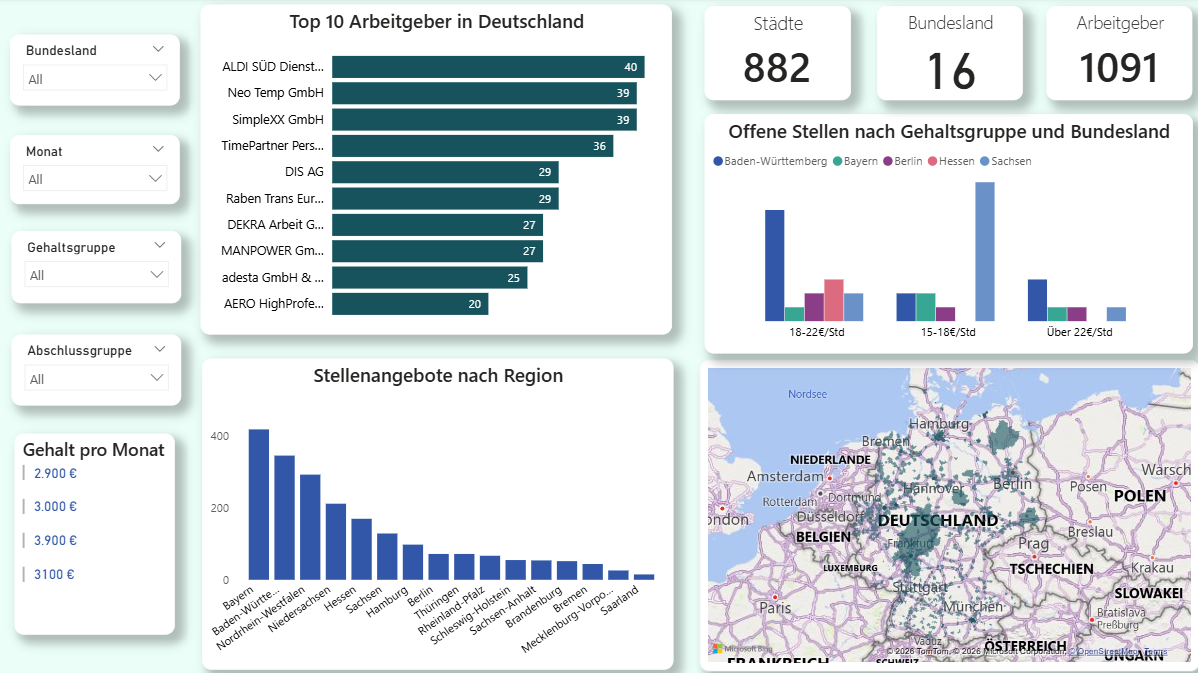

What the dashboard file says about the page in this screenshot:
{"tool":"powerbi","page":{"name":"локация вакансий","canvas":[1280,720],"ordinal":0},"visuals":[{"type":"clusteredBarChart","title":"Top 10 Arbeitgeber in Deutschland","fields":{"Category":["logistiker_jobs_clean.Arbeitgeber"],"Y":["CountNonNull(logistiker_jobs_clean.ID)"]},"box":[218,8,500,350],"z":0},{"type":"filledMap","fields":{"Category":["logistiker_jobs_clean.Ort"],"Y":["CountNonNull(logistiker_jobs_clean.ID)"]},"box":[747.5,384.7,530,330],"z":1000},{"type":"card","title":"Arbeitgeber","fields":{"Values":["Count(logistiker_jobs_clean.Arbeitgeber)"]},"box":[1115,9.4,155,100.2],"z":2000},{"type":"card","title":"Städte","fields":{"Values":["Count(logistiker_jobs_clean.Ort)"]},"box":[752.1,9.4,155,100],"z":3000},{"type":"clusteredColumnChart","title":"Stellenangebote nach Region","fields":{"Category":["logistiker_jobs_clean.Bundesland"],"Y":["CountNonNull(logistiker_jobs_clean.ID)"]},"box":[220,384,500,330],"z":4000},{"type":"slicer","fields":{"Values":["logistiker_jobs_clean.Bundesland"]},"box":[15.9,39.8,180,75],"z":5000},{"type":"slicer","fields":{"Values":["logistiker_jobs_clean.Gehaltsgruppe"]},"box":[17.8,248.9,180,76.7],"z":6000},{"type":"slicer","fields":{"Values":["logistiker_jobs_clean.Abschluss_Gruppe"]},"box":[17.8,357.8,180,75.6],"z":7000},{"type":"lineClusteredColumnComboChart","title":"Offene Stellen nach Gehaltsgruppe und Bundesland","fields":{"Category":["logistiker_jobs_clean.Gehaltsgruppe"],"Series":["logistiker_jobs_clean.Bundesland"],"Y":["CountNonNull(logistiker_jobs_clean.ID)"]},"box":[752,124,518,254],"z":8000},{"type":"slicer","fields":{"Values":["Calendar.Jahr","Calendar.Monat_Name"]},"box":[15.6,145.6,180,73.3],"z":9000},{"type":"card","title":"Bundesland","fields":{"Values":["Count(logistiker_all_keywords.Bundesland)"]},"box":[935.4,9.4,155,100.2],"z":10000},{"type":"multiRowCard","title":"Gehalt pro Monat","fields":{"Values":["logistiker_jobs_clean.Gehalt"]},"box":[20.8,463,170.1,213.5],"z":11000}]}

Visuals, with their boxes in screenshot pixels (x1, y1, x2, y2), scaled from the page's 1280x720 canvas onto the 1198x673 screenshot:
"Top 10 Arbeitgeber in Deutschland" clusteredBarChart: left=204, top=7, right=672, bottom=335
filledMap - logistiker_jobs_clean.Ort x CountNonNull(logistiker_jobs_clean.ID): left=700, top=360, right=1196, bottom=668
"Arbeitgeber" card: left=1044, top=9, right=1189, bottom=102
"Städte" card: left=704, top=9, right=849, bottom=102
"Stellenangebote nach Region" clusteredColumnChart: left=206, top=359, right=674, bottom=667
slicer - logistiker_jobs_clean.Bundesland: left=15, top=37, right=183, bottom=107
slicer - logistiker_jobs_clean.Gehaltsgruppe: left=17, top=233, right=185, bottom=304
slicer - logistiker_jobs_clean.Abschluss_Gruppe: left=17, top=334, right=185, bottom=405
"Offene Stellen nach Gehaltsgruppe und Bundesland" lineClusteredColumnComboChart: left=704, top=116, right=1189, bottom=353
slicer - Calendar.Jahr x Calendar.Monat_Name: left=15, top=136, right=183, bottom=205
"Bundesland" card: left=875, top=9, right=1021, bottom=102
"Gehalt pro Monat" multiRowCard: left=19, top=433, right=179, bottom=632
